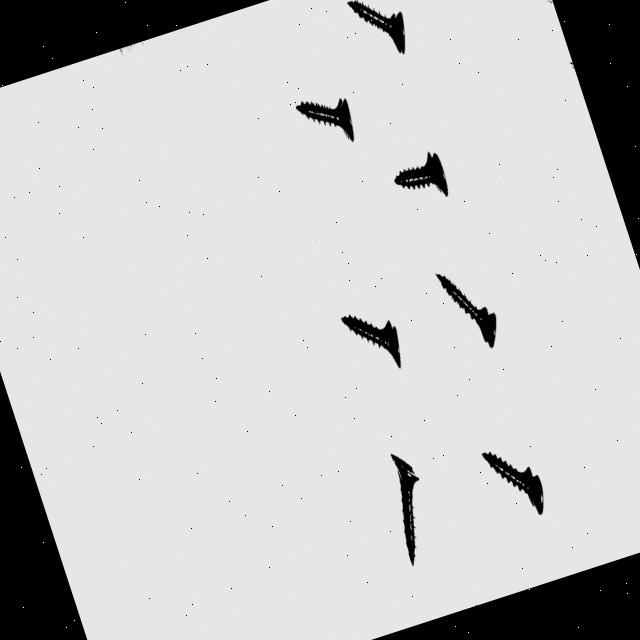Screw: (437, 272, 497, 347), (483, 452, 544, 514), (341, 314, 401, 366), (391, 454, 418, 564), (348, 0, 405, 52), (296, 96, 354, 139), (395, 151, 448, 194)
